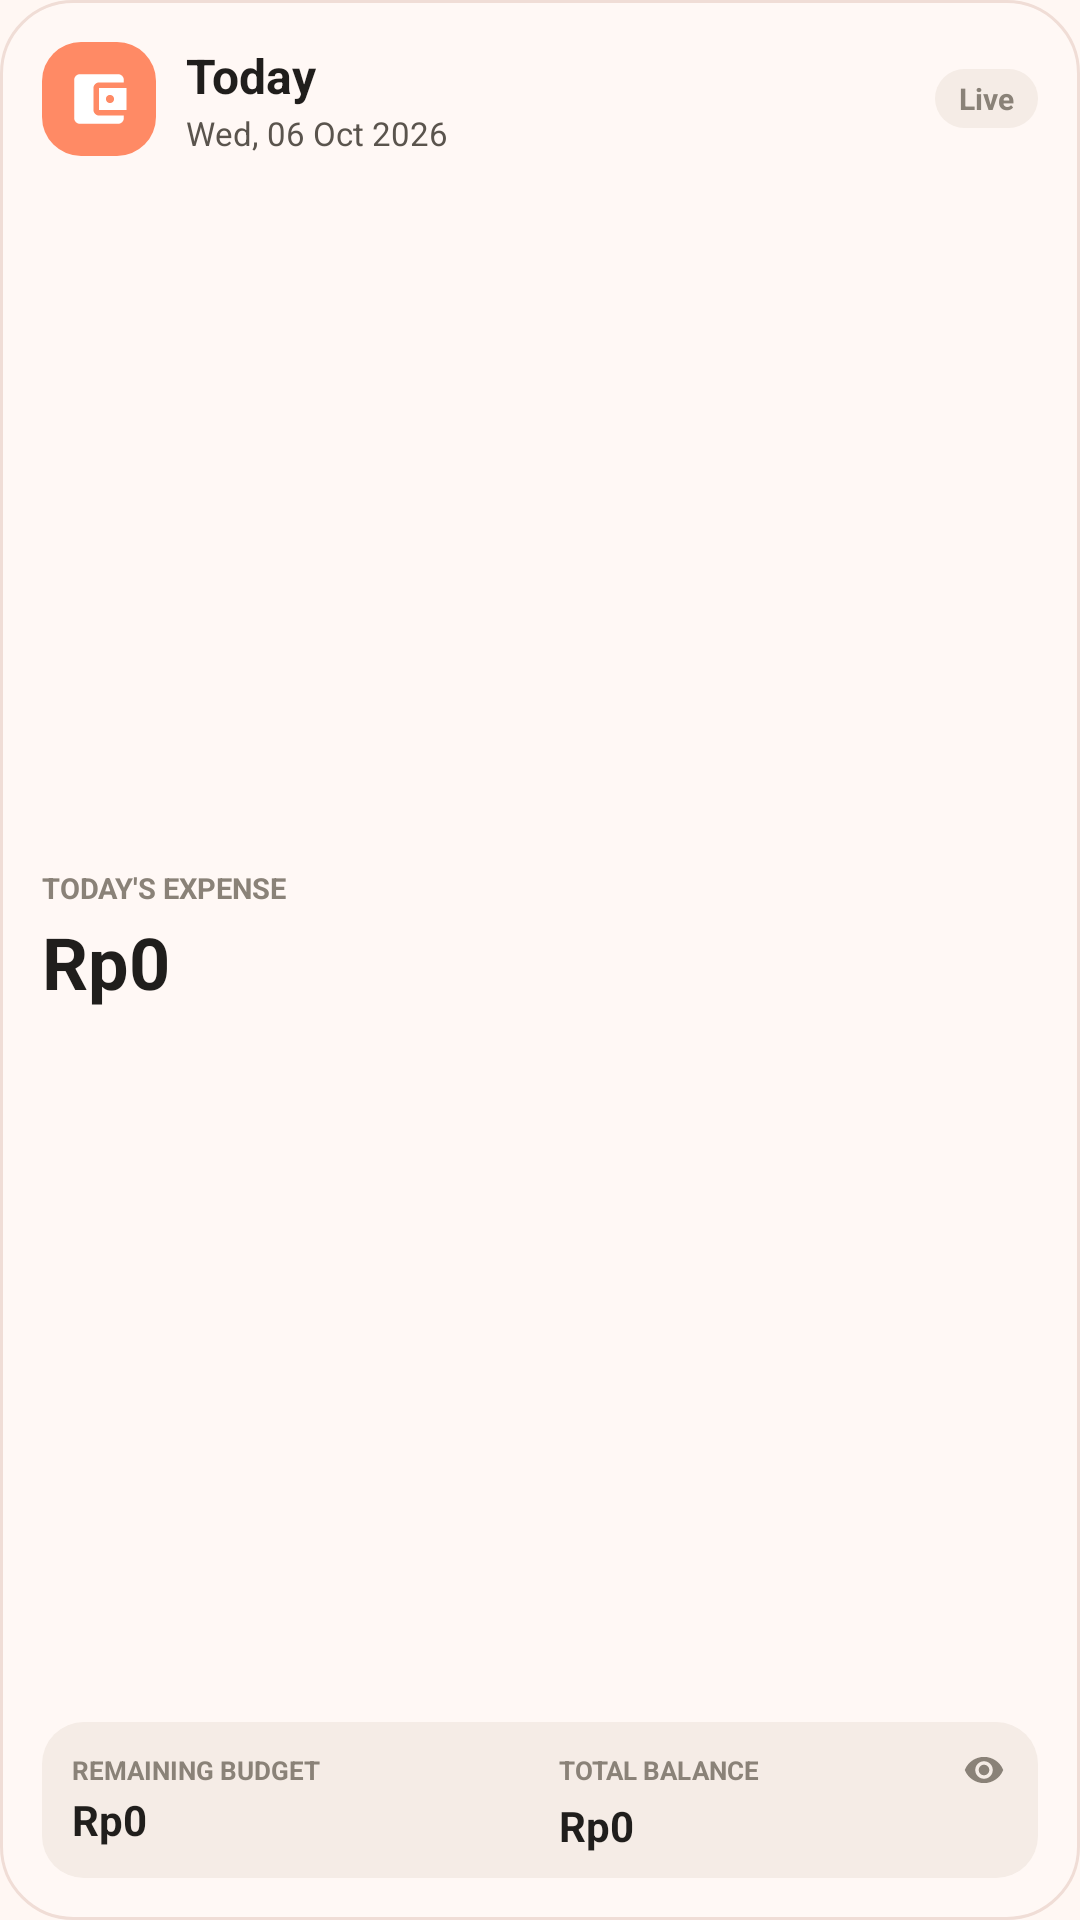

Where to tap for icons on this 1080*1920 app screen, as [x,y]:
Toggle balance visibility: [984,1770]
widget wallet: [99,99]
